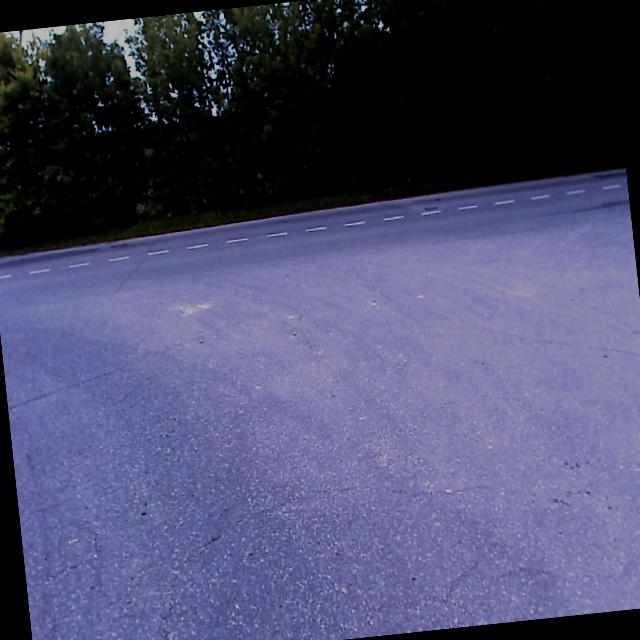road: (0, 168, 640, 640)
